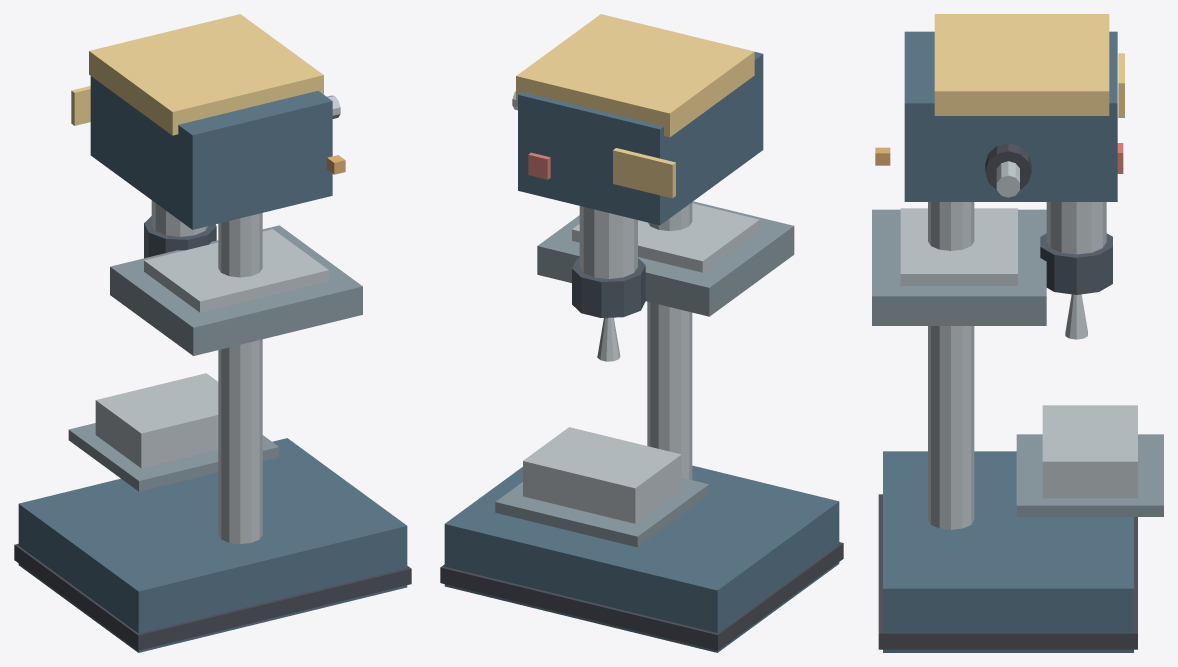
Rendered from workshop-drill-press.glb.
3 views of the same model, side by side, from view 1: azimuth 30°, elevation 25°; view 2: azimuth 150°, elevation 25°; view 3: azimuth 270°, elevation 25° (orthographic). The views are drawn at different scales.
Parts seen in each view (by area): view 1: Industrial drill press - workshop; view 2: Industrial drill press - workshop; view 3: Industrial drill press - workshop.
Boxes of the visible parts, x1,y1,x2,y2 form: Industrial drill press - workshop: (14,14,411,652); Industrial drill press - workshop: (440,14,843,652); Industrial drill press - workshop: (872,14,1163,652).
Bounding box in the file's own units: 1.21 × 2.15 × 1.07.
